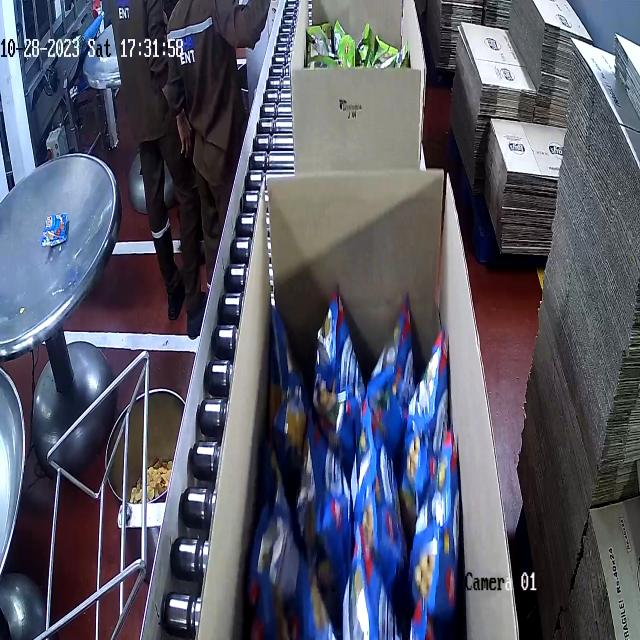PAPRIKA: (264, 288, 456, 640)
